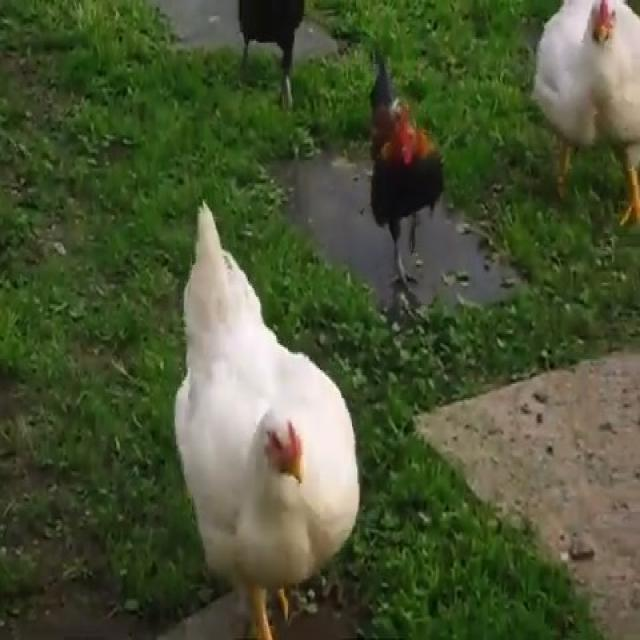running: (168, 197, 381, 640), (524, 0, 640, 244), (349, 39, 448, 292)
